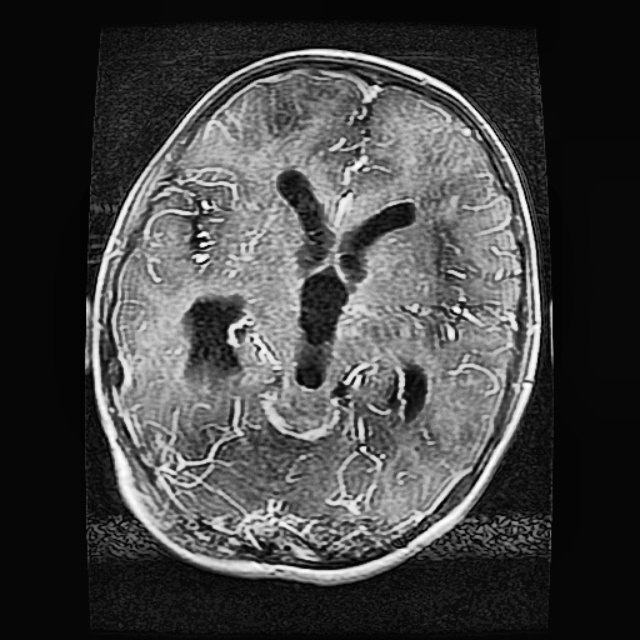Glioma: (178, 292, 247, 379)
